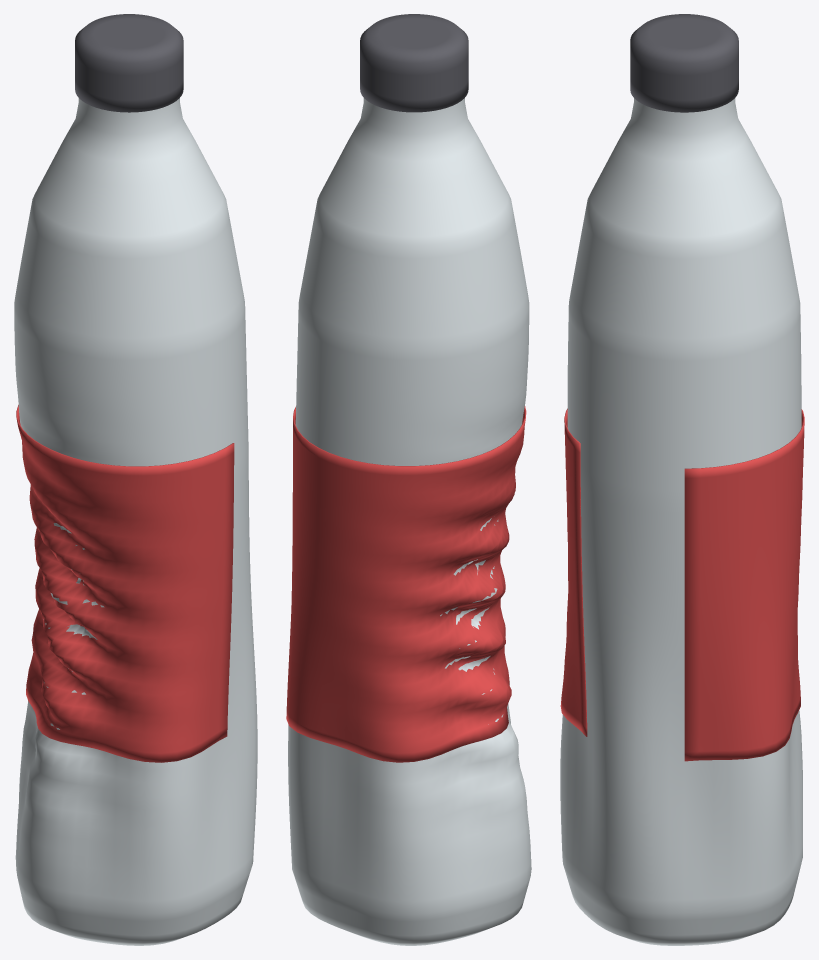
File: bottle_soda_broken.glb
3 renders of one model, left to right at view 1: azimuth 30°, elevation 25°; view 2: azimuth 150°, elevation 25°; view 3: azimuth 270°, elevation 25°, orthographic.
Visible parts, largest first — view 1: Glass, Label, Cap; view 2: Glass, Label, Cap; view 3: Glass, Label, Cap.
Part boxes in pixels (left/top/right/bottom): Glass: left=14, top=98, right=257, bottom=945; Label: left=16, top=405, right=234, bottom=762; Cap: left=75, top=14, right=183, bottom=112; Glass: left=288, top=98, right=531, bottom=945; Label: left=286, top=406, right=526, bottom=762; Cap: left=360, top=14, right=468, bottom=112; Glass: left=560, top=98, right=802, bottom=945; Label: left=560, top=408, right=804, bottom=761; Cap: left=630, top=14, right=738, bottom=112.
Bounding box in the file's own units: 0.067 × 0.267 × 0.0675.
